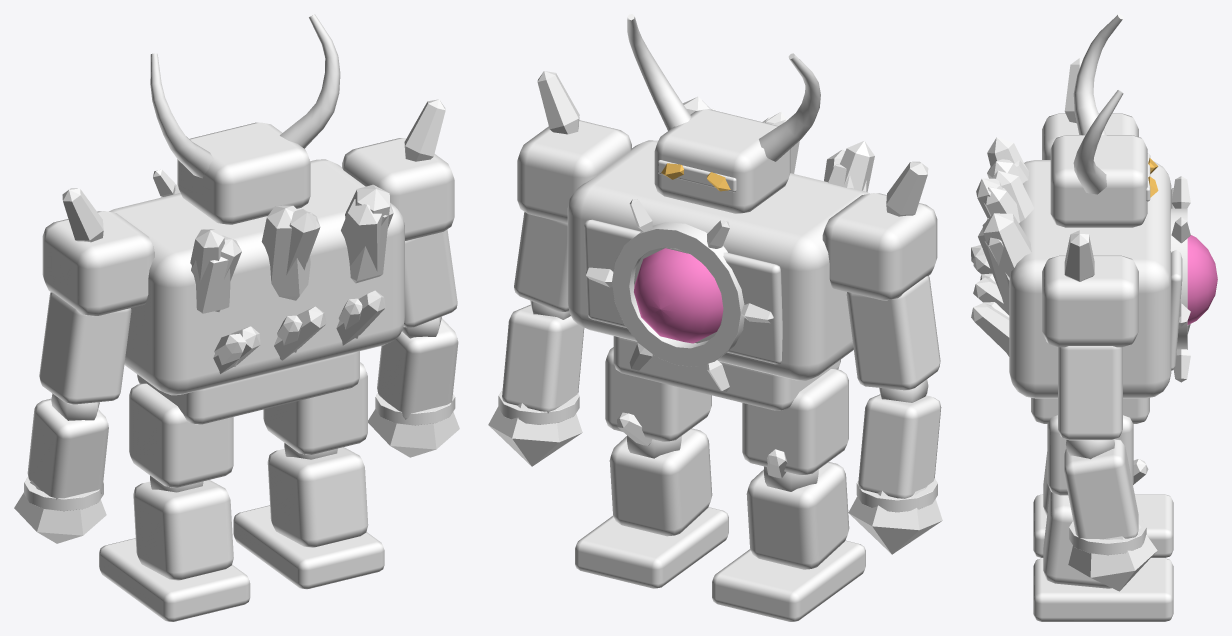
Rendered from ChaosOverlord.glb.
3 renders of one model, left to right at view 1: azimuth 30°, elevation 25°; view 2: azimuth 150°, elevation 25°; view 3: azimuth 270°, elevation 25°, orthographic. The views are drawn at different scales.
Parts seen in each view (by area): view 1: Body, ArmL, ArmR, Crystals; view 2: Body, ArmL, ArmR, Core, Crystals; view 3: Body, ArmR, Crystals, ArmL, Core.
Part boxes in pixels (box(x1,y1,x2,y2)): Body: box(99, 14, 404, 621); ArmL: box(14, 188, 154, 543); ArmR: box(342, 99, 459, 457); Crystals: box(190, 184, 393, 373); Body: box(567, 14, 869, 621); ArmL: box(822, 161, 942, 554); ArmR: box(488, 71, 631, 466); Core: box(634, 248, 723, 343); Crystals: box(617, 96, 874, 478); Body: box(1009, 14, 1190, 621); ArmR: box(1042, 230, 1157, 591); Crystals: box(971, 137, 1148, 484); ArmL: box(1042, 58, 1138, 159); Core: box(1187, 235, 1217, 324).
Size of the model in its own units: 50.69 by 61.17 by 26.28.
